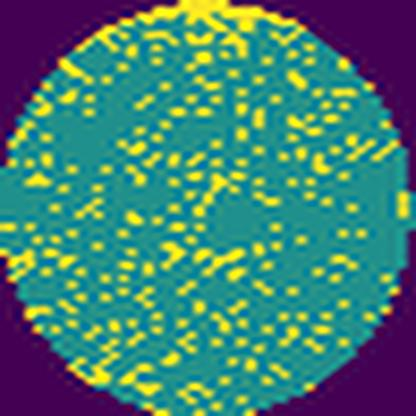Edge-Loc: (86, 0, 300, 32)
